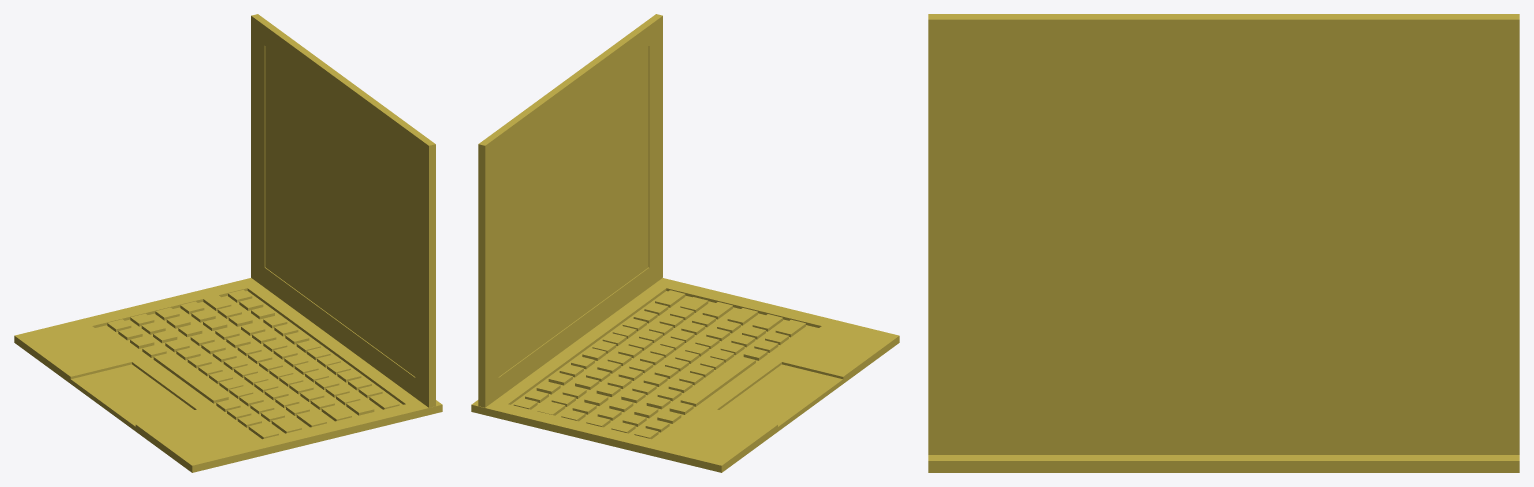
Rendered from Computer (1).obj.
3 views of the same model, side by side, from view 1: azimuth 30°, elevation 25°; view 2: azimuth 150°, elevation 25°; view 3: azimuth 270°, elevation 25° (orthographic). The views are drawn at different scales.
Parts seen in each view (by area): view 1: Cube.010; view 2: Cube.010; view 3: Cube.010.
Boxes of the visible parts, left/top/right/bottom form: Cube.010: left=14, top=14, right=442, bottom=472; Cube.010: left=471, top=14, right=899, bottom=472; Cube.010: left=928, top=14, right=1519, bottom=472.
Size of the model in its own units: 1.82 by 1.87 by 2.24.
